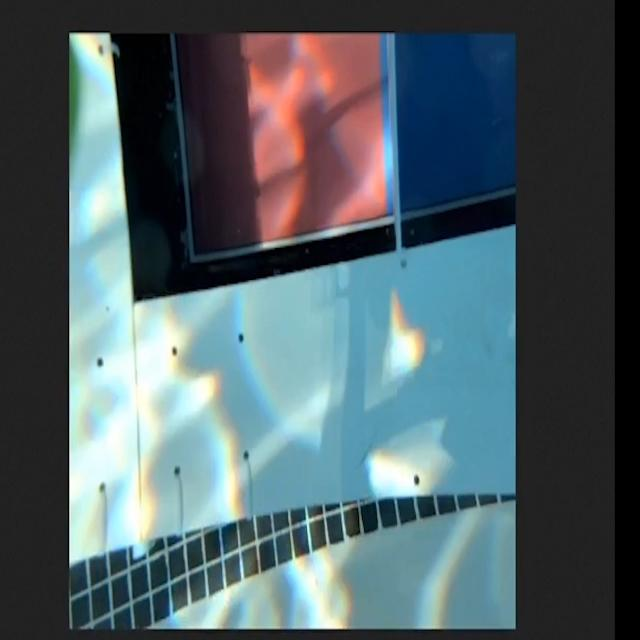Bin: (68, 34, 517, 566)
